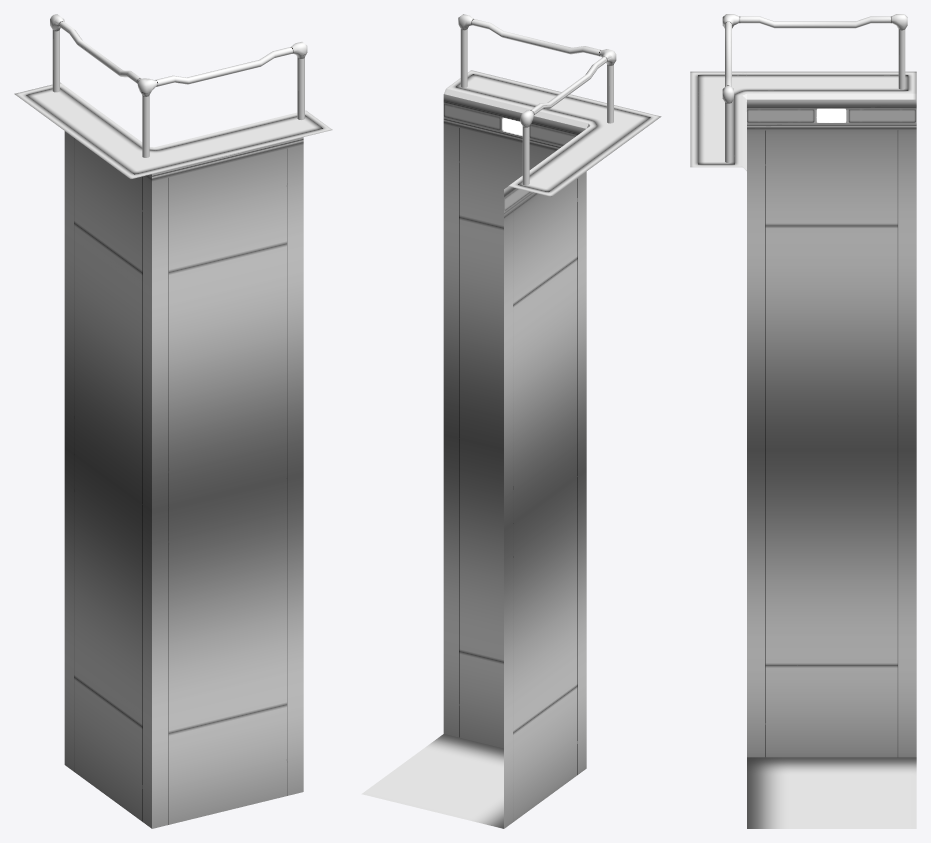
Rendered from Sect_Floor_19.FBX.
The picture shows the model from 3 angles, left to right: view 1: azimuth 30°, elevation 25°; view 2: azimuth 150°, elevation 25°; view 3: azimuth 270°, elevation 25°; orthographic projection. The views are drawn at different scales.
Parts seen in each view (by area): view 1: Sect_Floor_BaseC_; view 2: Sect_Floor_BaseC_; view 3: Sect_Floor_BaseC_.
Part boxes in pixels (x1,y1,x2,y2): Sect_Floor_BaseC_: (14, 14, 332, 828); Sect_Floor_BaseC_: (361, 14, 661, 828); Sect_Floor_BaseC_: (690, 14, 916, 828).
Size of the model in its own units: 4 by 14.35 by 4.
